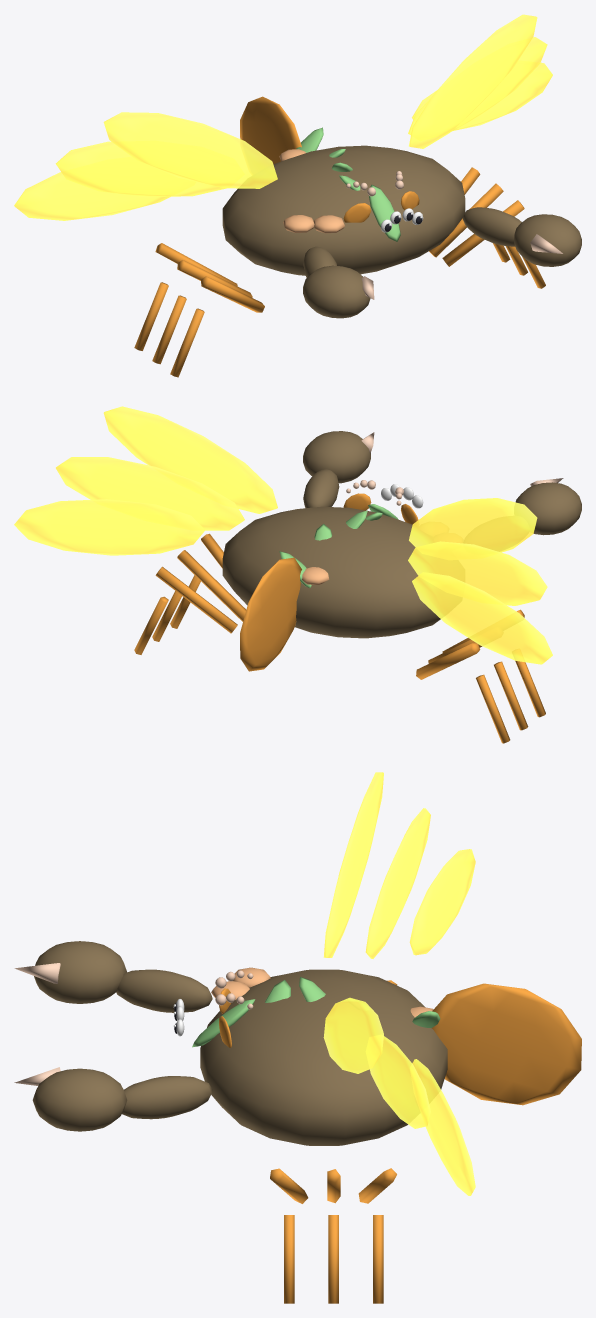
The model's file is volcano_crab_02.glb.
3 views of the same model, one above another, from view 1: azimuth 30°, elevation 25°; view 2: azimuth 150°, elevation 25°; view 3: azimuth 270°, elevation 25° (orthographic). The views are drawn at different scales.
Visible parts, largest first — view 1: ball; view 2: ball; view 3: ball.
Part boxes in pixels (box(x1,y1,x2,y2)): ball: box(14, 14, 581, 377); ball: box(14, 406, 581, 743); ball: box(14, 772, 581, 1303).
Size of the model in its own units: 2.6 by 1.12 by 1.92.
